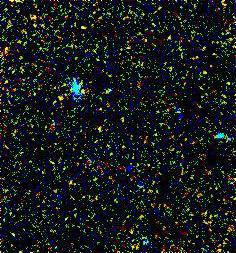star: (46, 82, 76, 112)
